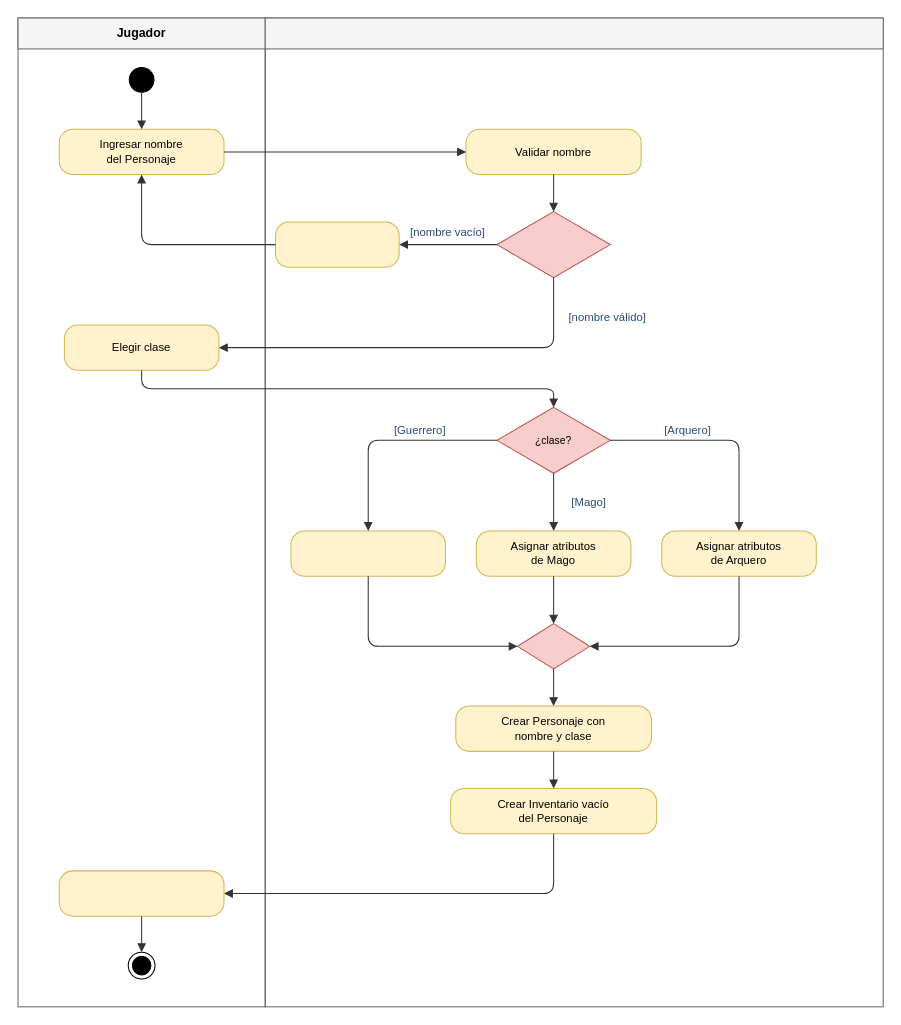
Some shapes in this 901 by 1025 pixel diagram are drawn without their labels. The shapes that lost their labels are listed below. From the top down, each one's centre as x and y in pixels, then its label:
pixel 573 33: RPG Manager
pixel 336 244: Mostrar error: nombre obligatorio
pixel 553 244: ¿nombre vacío?
pixel 367 553: Asignar atributos de Guerrero
pixel 141 893: Mostrar Personaje creado
